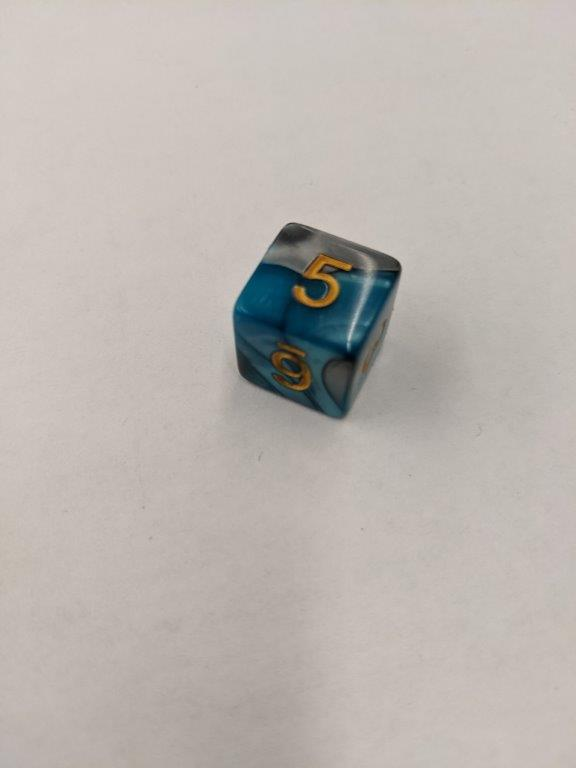d6-5: (233, 218, 404, 422)
